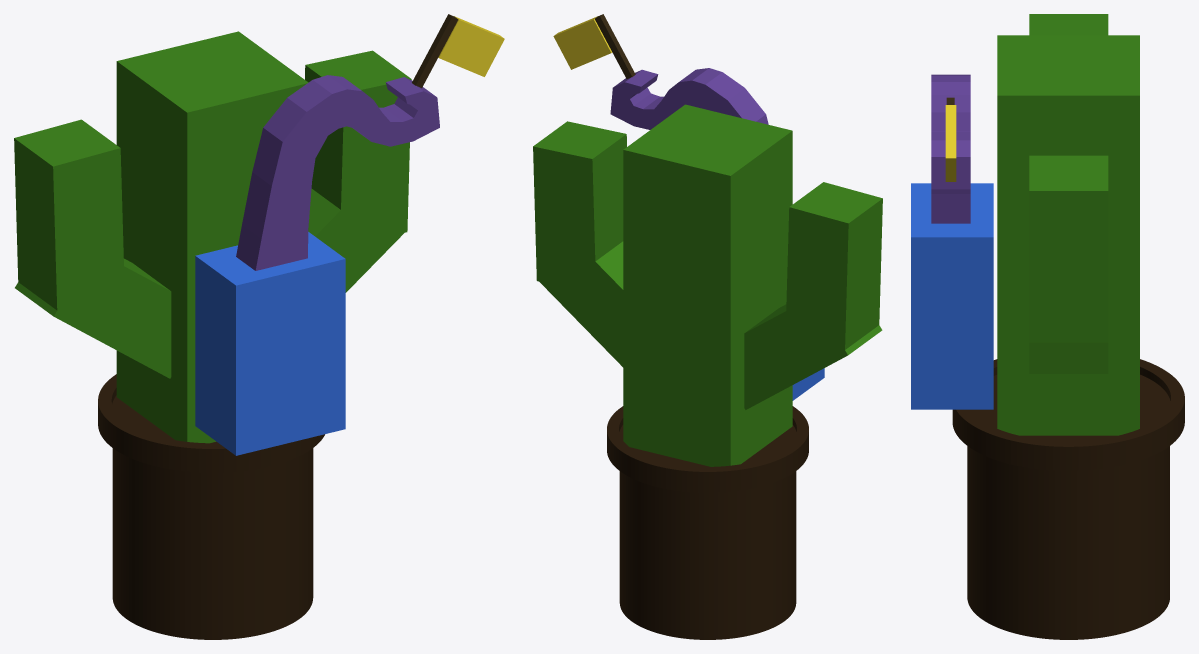
The model's file is Character_flag_yellow.fbx.
The picture shows the model from 3 angles, left to right: view 1: azimuth 30°, elevation 25°; view 2: azimuth 150°, elevation 25°; view 3: azimuth 270°, elevation 25°; orthographic projection. The views are drawn at different scales.
Visible parts, largest first — view 1: Cube.013, Cube.014, Cube.015, Cube.016, Cube.017; view 2: Cube.013, Cube.015, Cube.016, Cube.017; view 3: Cube.013, Cube.014, Cube.015, Cube.016.
Part boxes in pixels (bbox=[...]): Cube.013: bbox=[14, 31, 411, 639]; Cube.014: bbox=[195, 232, 345, 455]; Cube.015: bbox=[236, 75, 439, 270]; Cube.016: bbox=[438, 16, 504, 76]; Cube.017: bbox=[412, 14, 458, 88]; Cube.013: bbox=[533, 104, 882, 639]; Cube.015: bbox=[610, 68, 768, 129]; Cube.016: bbox=[553, 16, 612, 69]; Cube.017: bbox=[595, 14, 635, 78]; Cube.013: bbox=[952, 14, 1184, 639]; Cube.014: bbox=[911, 183, 993, 409]; Cube.015: bbox=[931, 74, 970, 223]; Cube.016: bbox=[945, 105, 956, 181].
Bounding box in the file's own units: 331 × 448 × 189.
